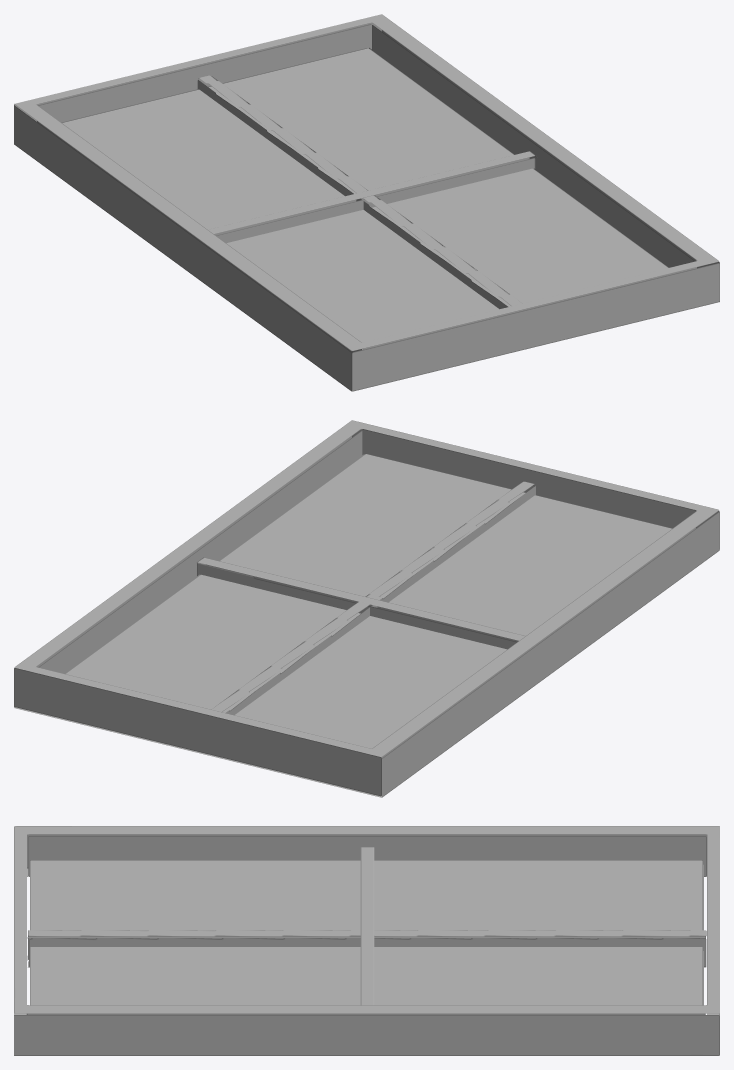
Rendered from pz_window_wooden_closed.obj.
3 views of the same model, one above another, from view 1: azimuth 30°, elevation 25°; view 2: azimuth 150°, elevation 25°; view 3: azimuth 270°, elevation 25° (orthographic). The views are drawn at different scales.
Visible parts, largest first — view 1: pz_window_wooden_closed; view 2: pz_window_wooden_closed; view 3: pz_window_wooden_closed.
Boxes of the visible parts, x1,y1,x2,y2 form: pz_window_wooden_closed: (14,14,719,391); pz_window_wooden_closed: (14,420,719,797); pz_window_wooden_closed: (14,826,719,1055).
Bounding box in the file's own units: 0.6094 × 0.076 × 0.9696.
Materials: 1 (1 with a texture image).
